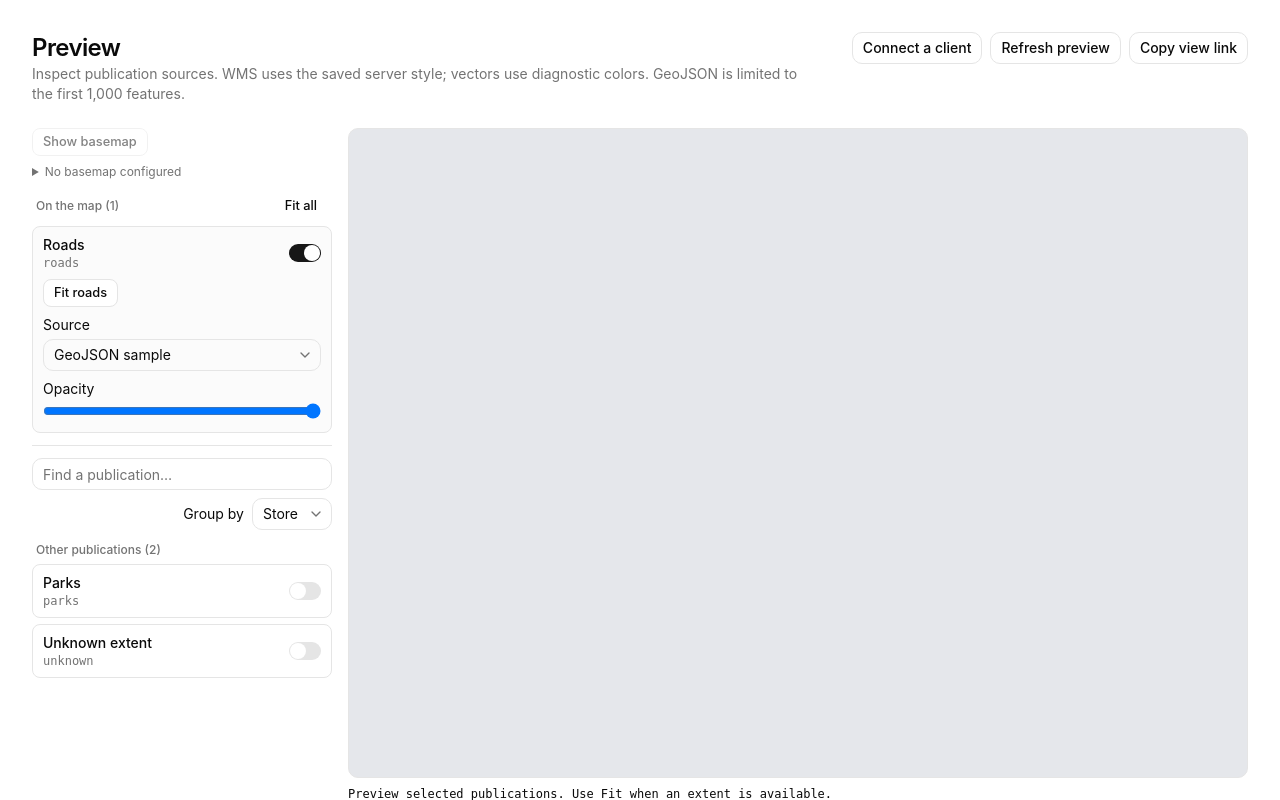
Test case: PreviewPage › keeps an explicitly empty selection and explains it
The width and height of the screenshot is (1280, 800).
Check: the text "Roads" is shown, box [43, 235, 85, 255]
Click the switch named "Show roads" at (305, 253), box [289, 244, 321, 262]
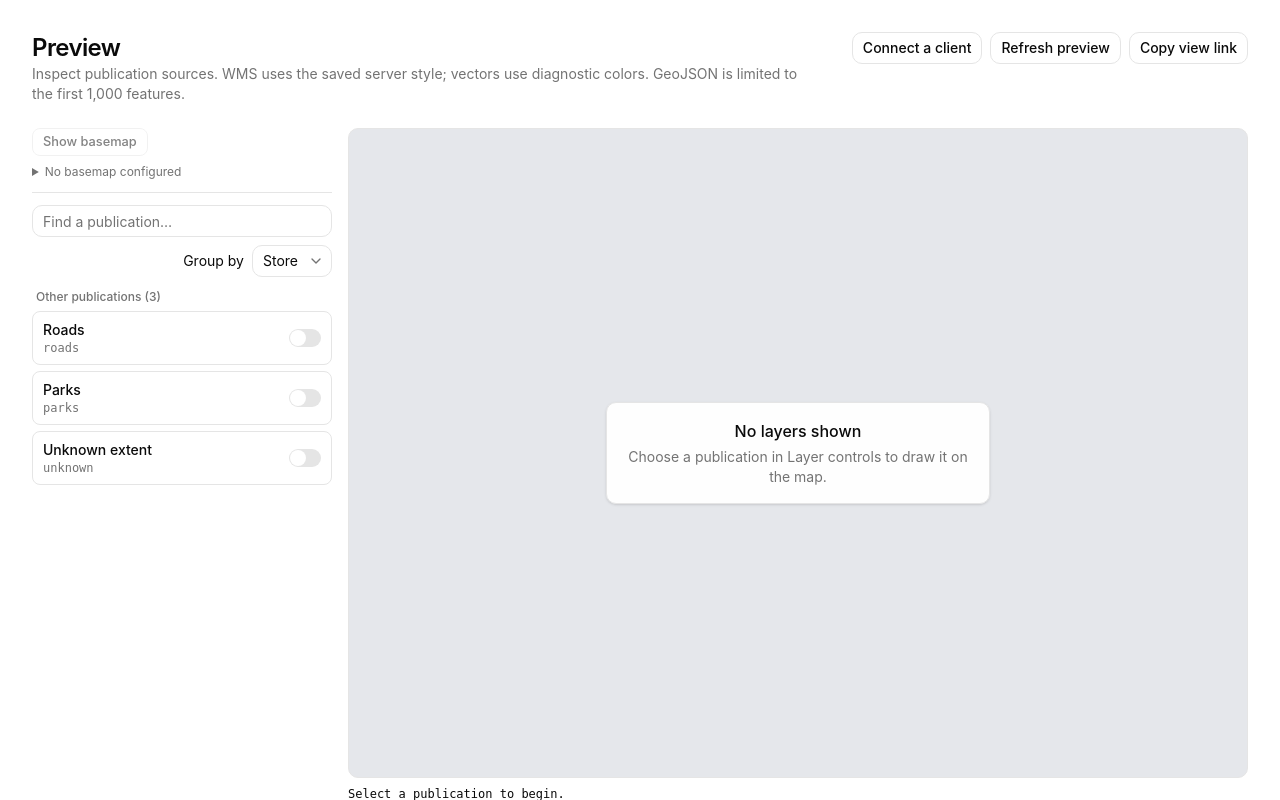
Check: the text "No layers shown" is shown, box [735, 421, 861, 441]
Check: the switch named "Show roads" is not checked, box [289, 329, 321, 347]
